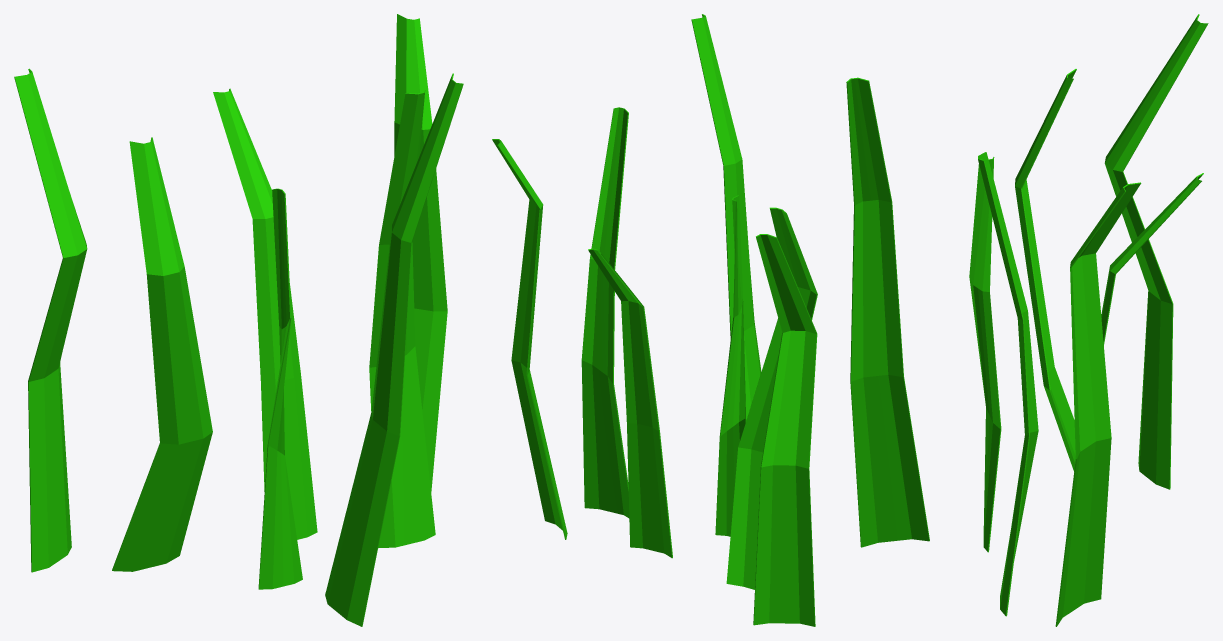
Rendered from grass_test.fbx.
The picture shows the model from 3 angles, left to right: view 1: azimuth 30°, elevation 25°; view 2: azimuth 150°, elevation 25°; view 3: azimuth 270°, elevation 25°; orthographic projection. The views are drawn at different scales.
Parts seen in each view (by area): view 1: Plane; view 2: Plane; view 3: Plane.
Boxes of the visible parts, left/top/right/bottom form: Plane: left=14, top=14, right=463, bottom=626; Plane: left=492, top=14, right=817, bottom=626; Plane: left=846, top=14, right=1208, bottom=626.
Bounding box in the file's own units: 0.3378 × 0.2846 × 0.4475.
